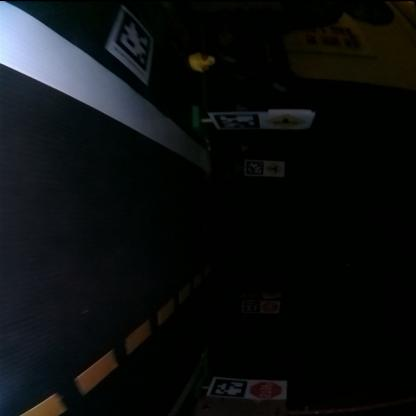Duckie: (190, 53, 216, 71)
Intersection sign: (266, 114, 310, 128), (266, 164, 283, 176)
QR code: (110, 7, 154, 77), (214, 113, 262, 129), (210, 379, 248, 398), (246, 161, 264, 175), (244, 300, 260, 312)
Stop sign: (250, 380, 286, 398), (264, 301, 278, 312)
